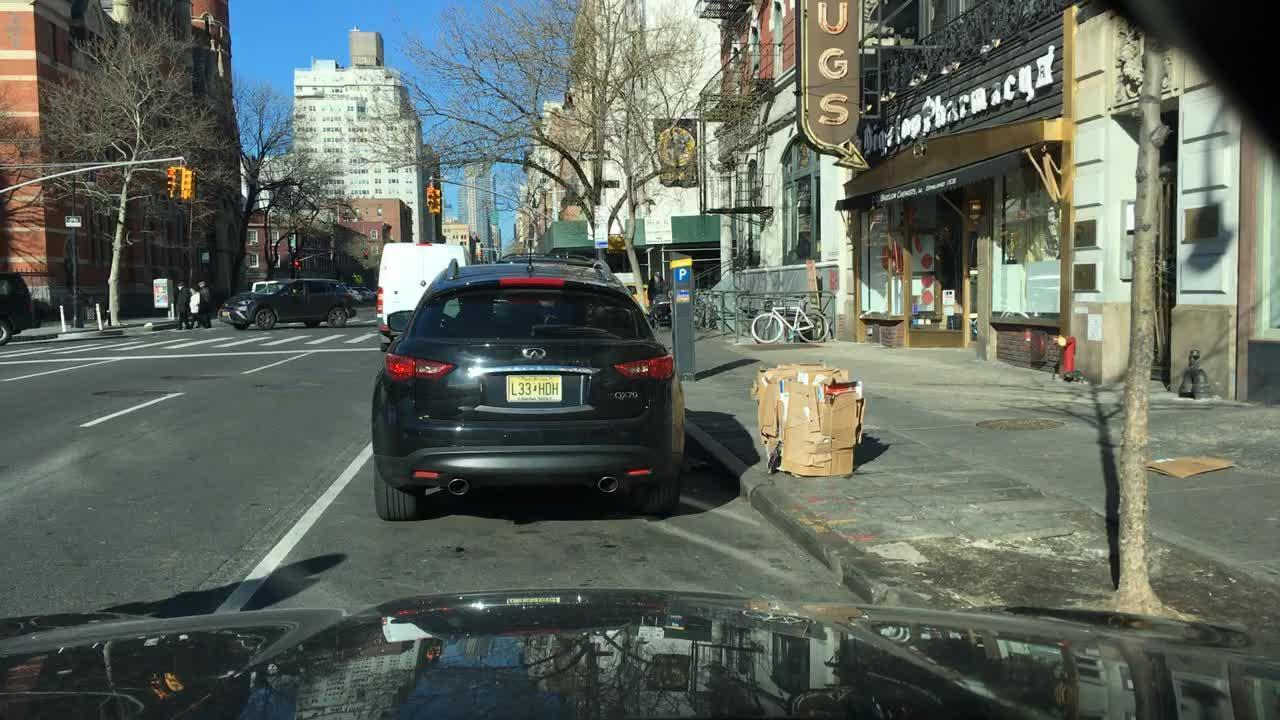Infiniti: (517, 342, 550, 364)
